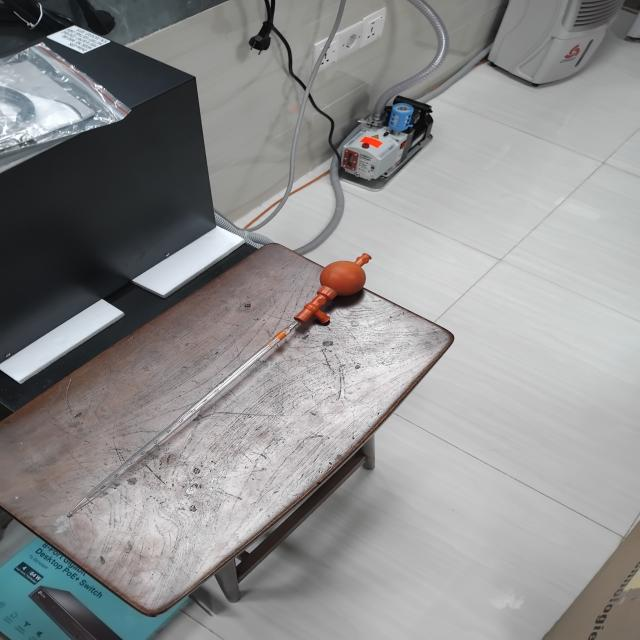Volumetric_Pipet: (34, 222, 420, 546)
